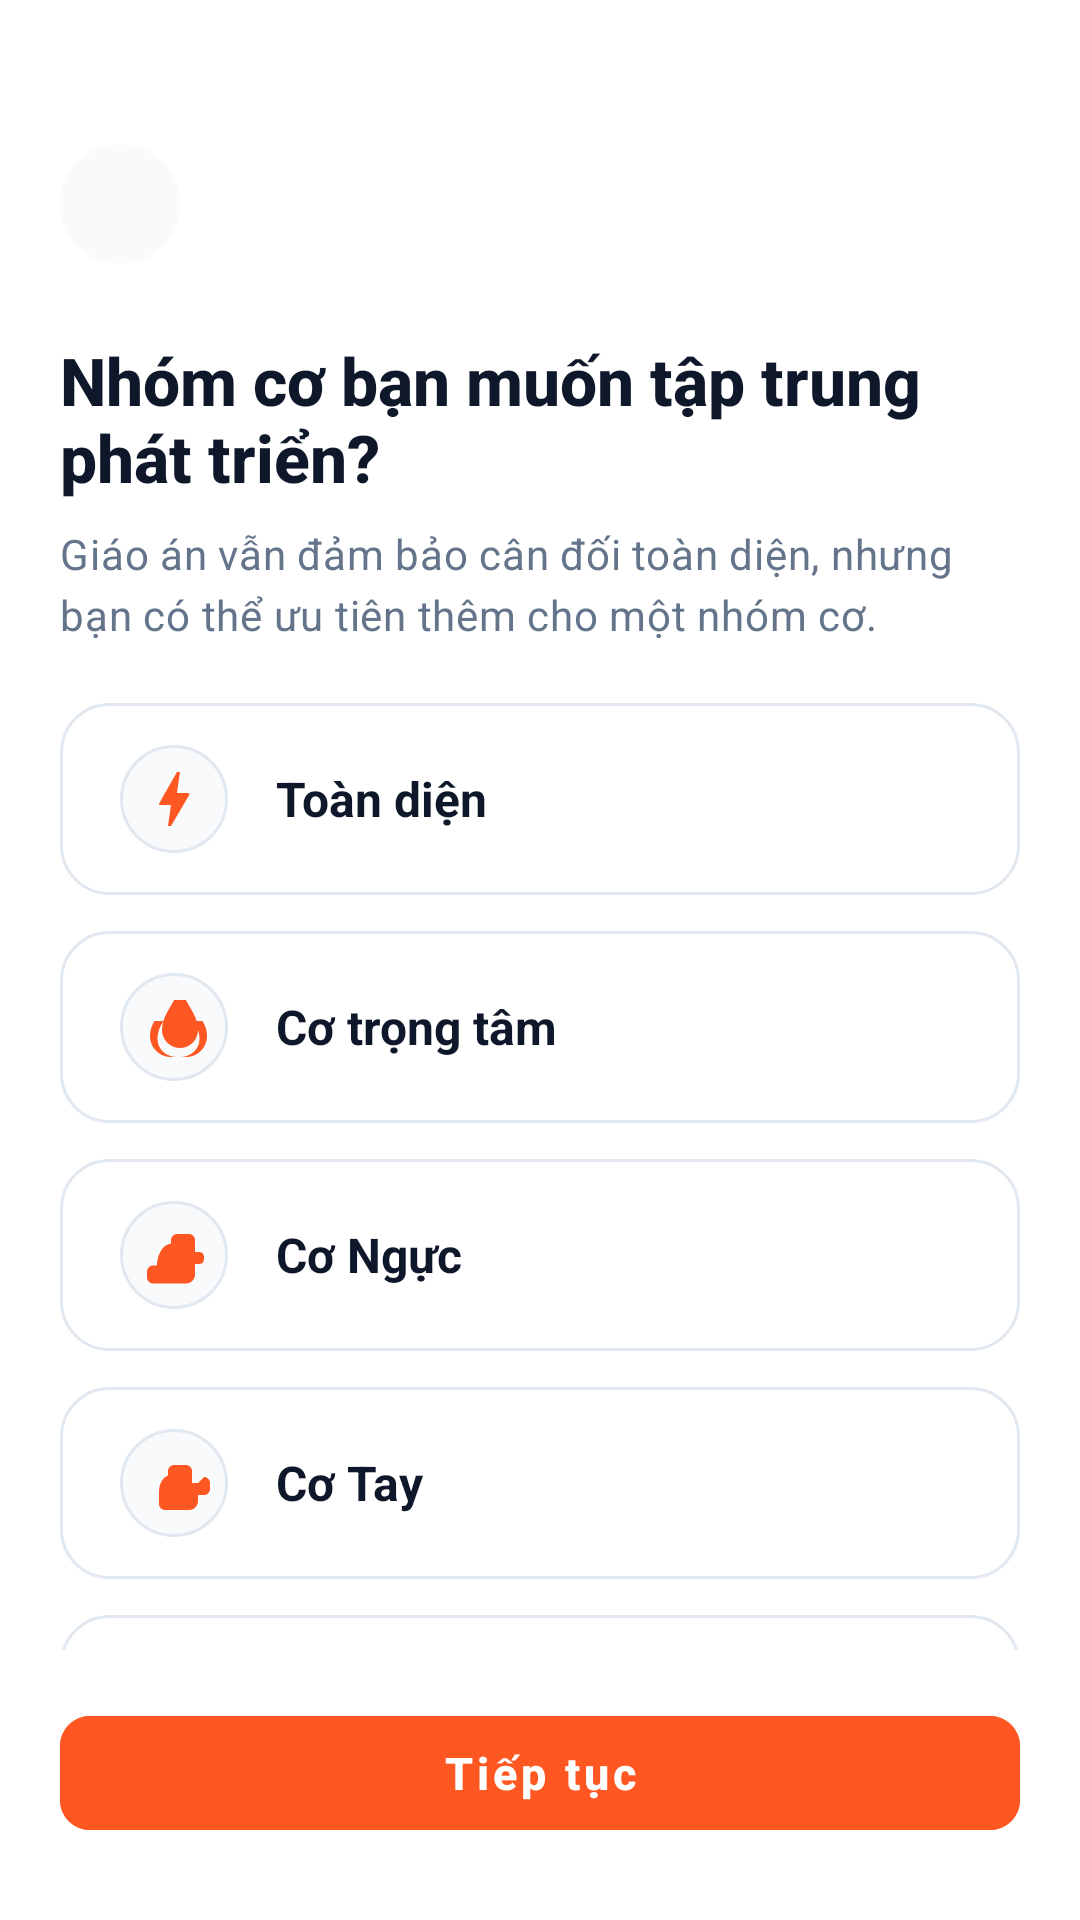

Where to tap for icons on this 1080 × 1920 app screen, as (x,y):
Arms: (174,1483)
